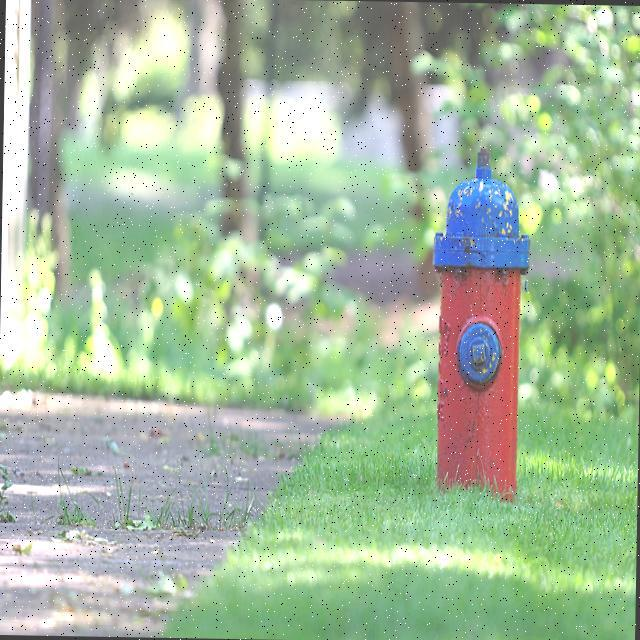fire_hydrant: (426, 143, 531, 500)
